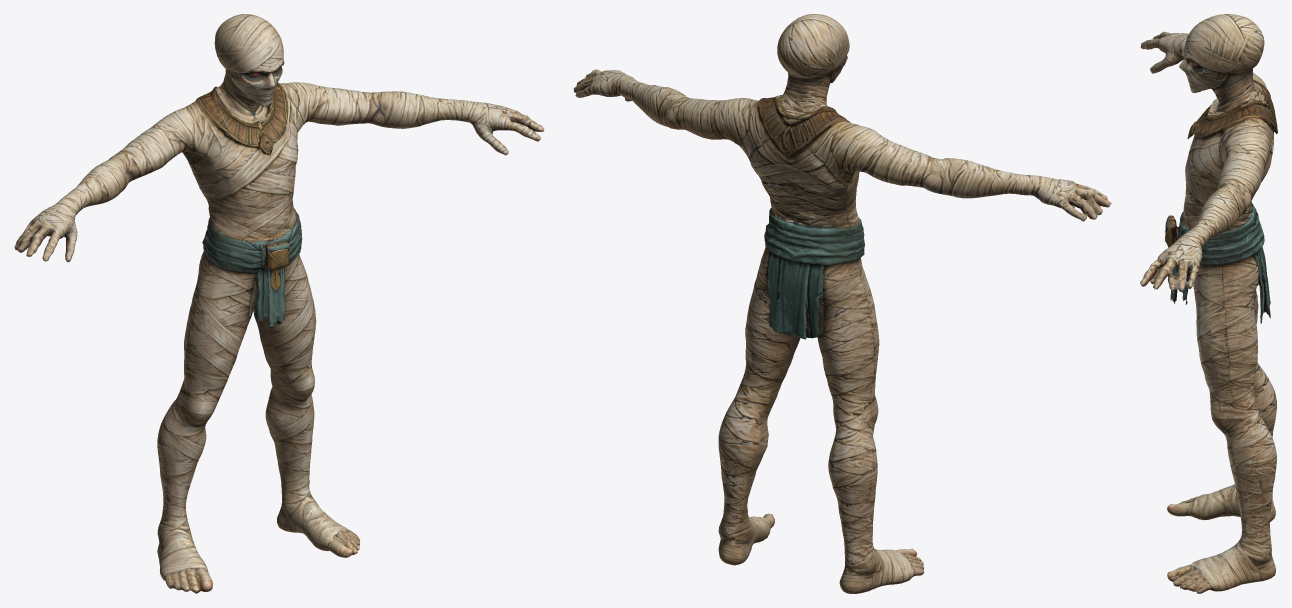
File: DESERT_E03_MUMMY.glb
3 views of the same model, side by side, from view 1: azimuth 30°, elevation 25°; view 2: azimuth 150°, elevation 25°; view 3: azimuth 270°, elevation 25° (orthographic). The views are drawn at different scales.
Parts seen in each view (by area): view 1: texture_mapping; view 2: texture_mapping; view 3: texture_mapping.
Boxes of the visible parts, left/top/right/bottom form: texture_mapping: left=14, top=14, right=544, bottom=593; texture_mapping: left=573, top=14, right=1111, bottom=593; texture_mapping: left=1140, top=14, right=1277, bottom=593.
Size of the model in its own units: 0.9982 by 0.9922 by 0.2324.
Materials: 1 (1 with a texture image).
